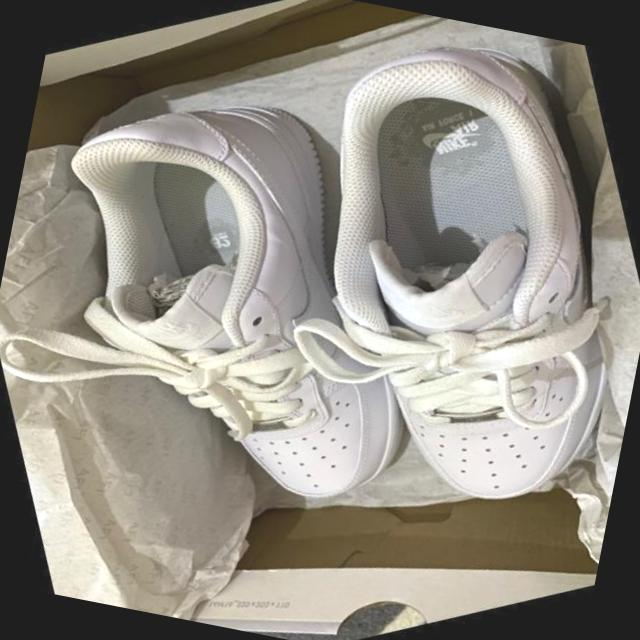nike_original_airforce: (0, 25, 489, 588), (202, 0, 640, 572)
